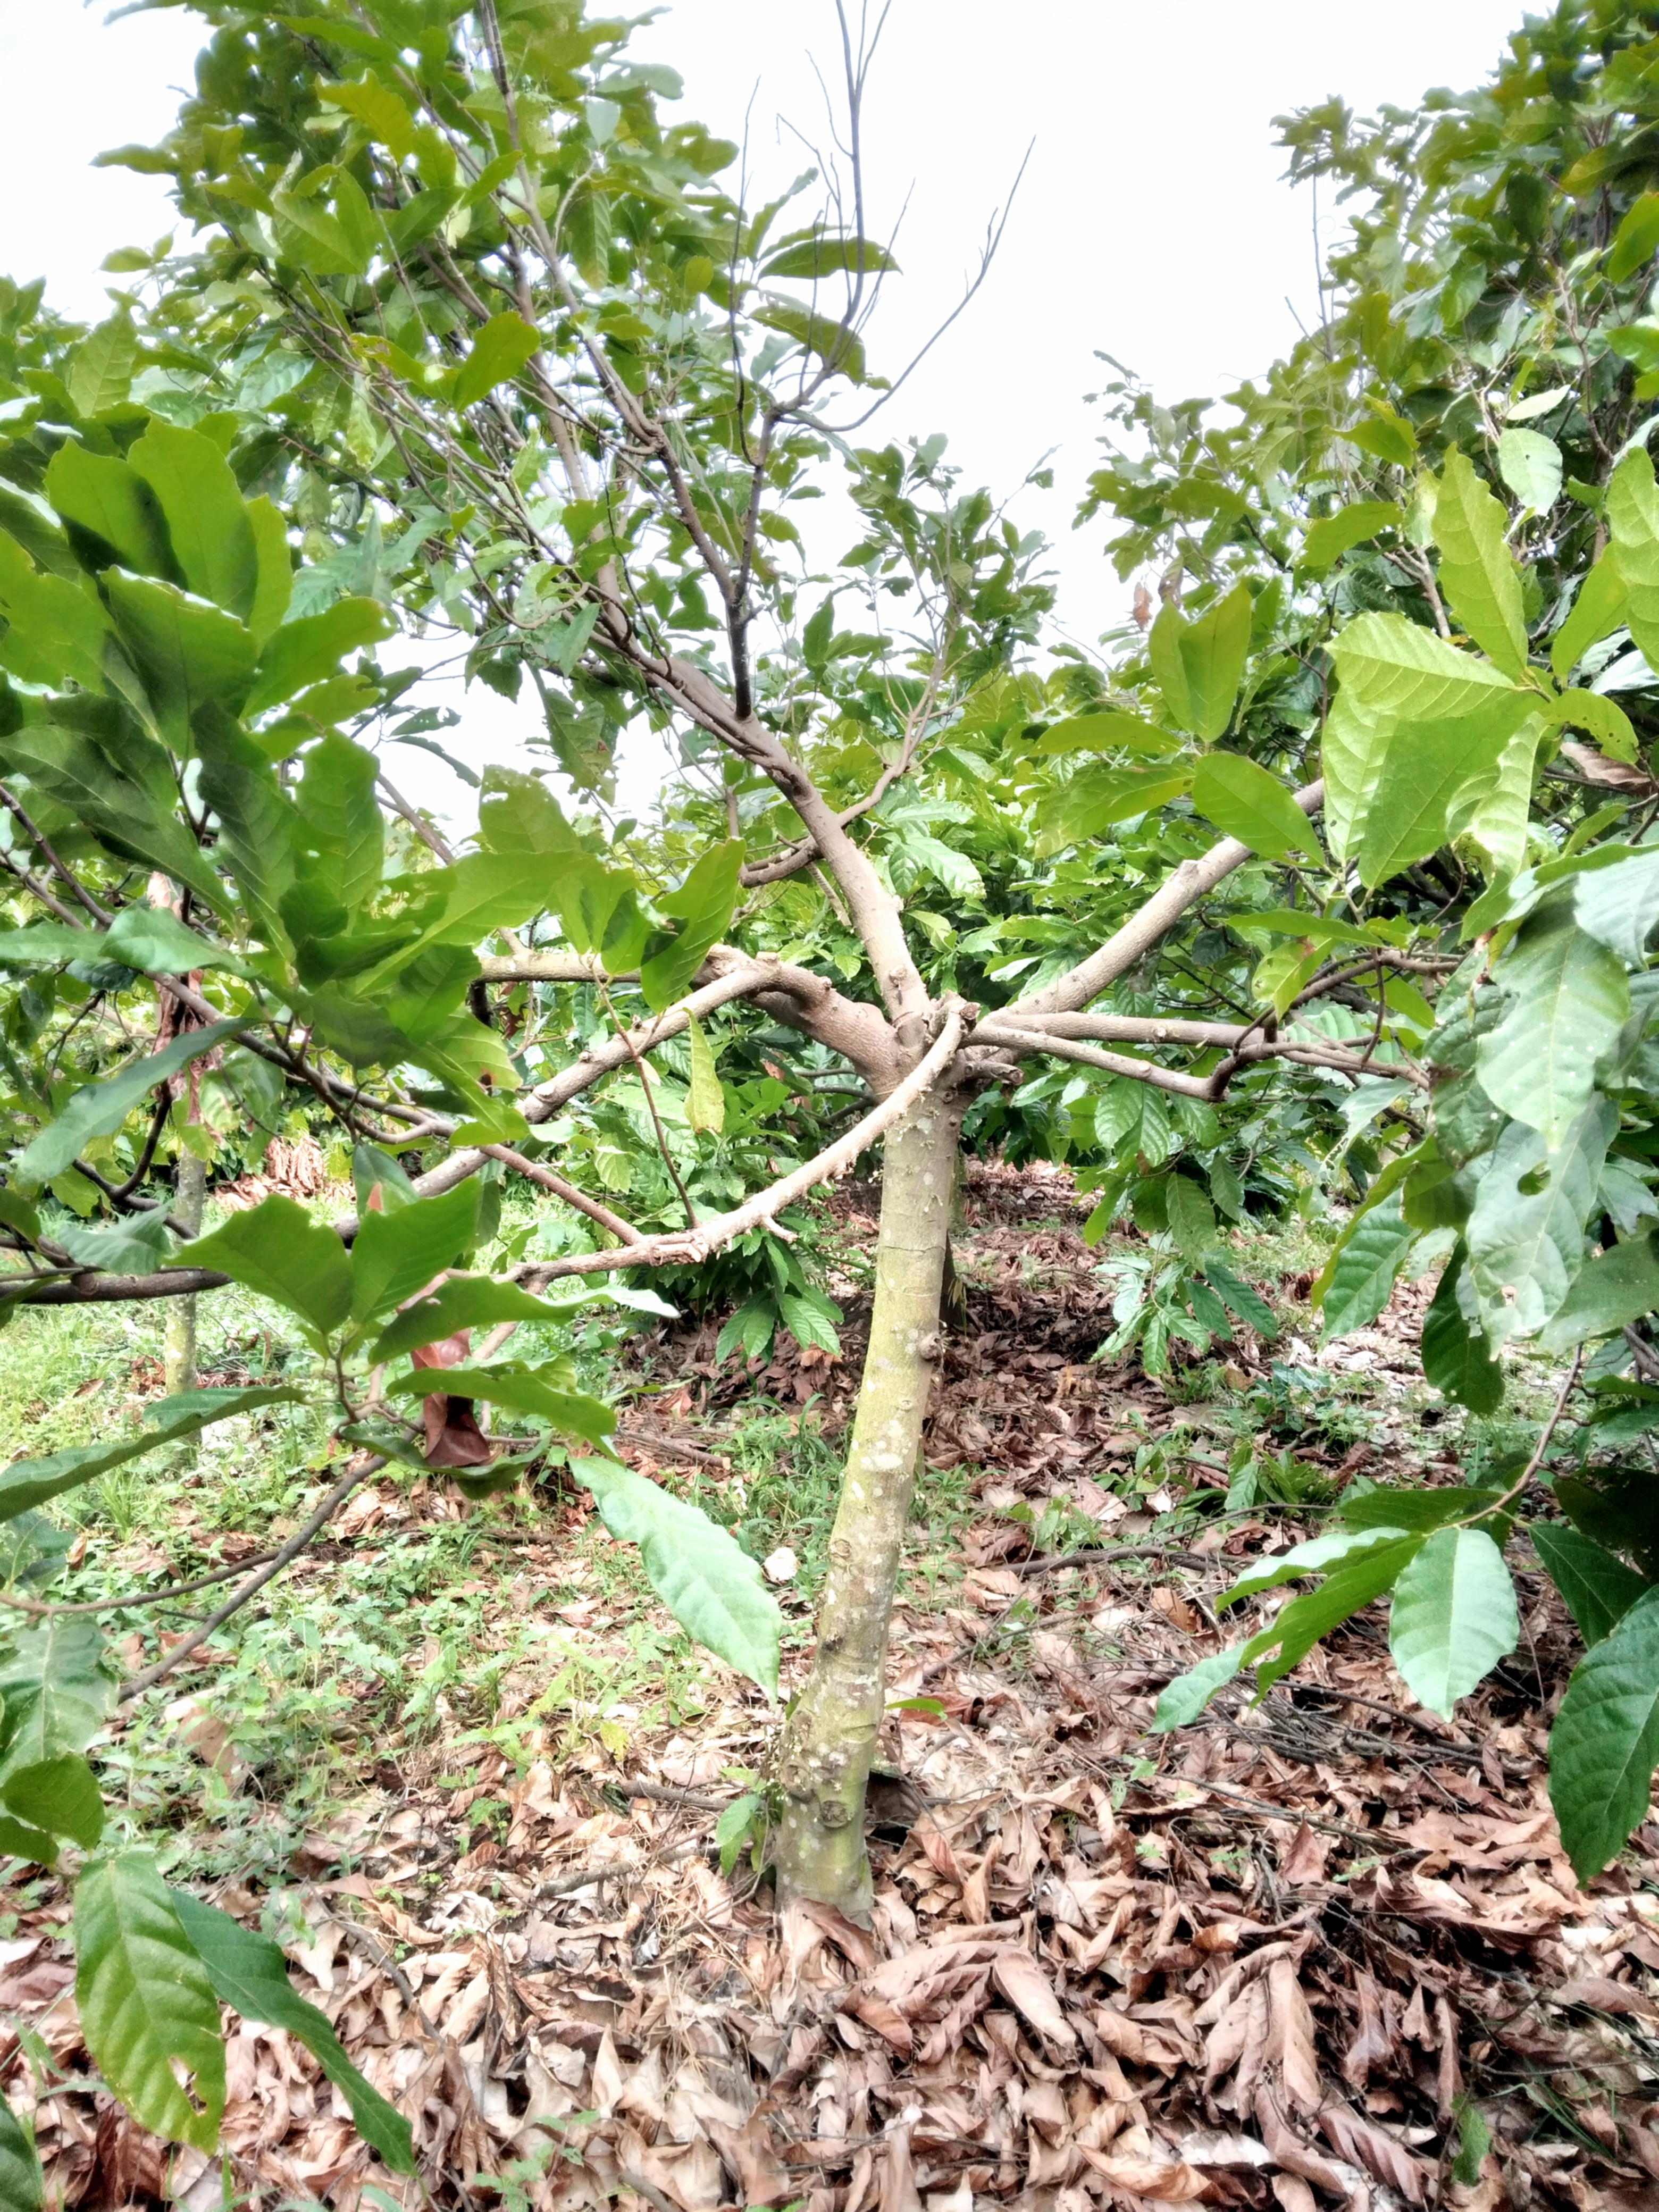flower: (1298, 1143, 1319, 1169), (1330, 1177, 1345, 1197), (852, 965, 864, 984), (1260, 1136, 1272, 1153), (1342, 1158, 1352, 1177), (1000, 942, 1014, 956), (877, 1038, 889, 1054), (1115, 975, 1124, 993), (896, 968, 910, 979), (894, 951, 908, 961), (1333, 1090, 1344, 1104), (986, 948, 999, 958), (845, 1003, 856, 1015), (1162, 1108, 1169, 1122), (1157, 1003, 1166, 1012), (694, 1071, 704, 1078), (1338, 1136, 1344, 1146), (856, 1035, 861, 1045), (1101, 1083, 1108, 1090), (1361, 1122, 1368, 1129)
